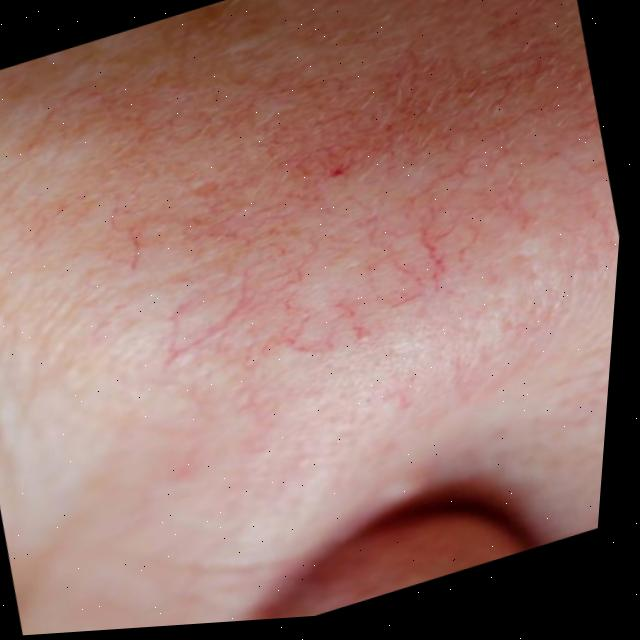Rosacea: (73, 16, 517, 442)
